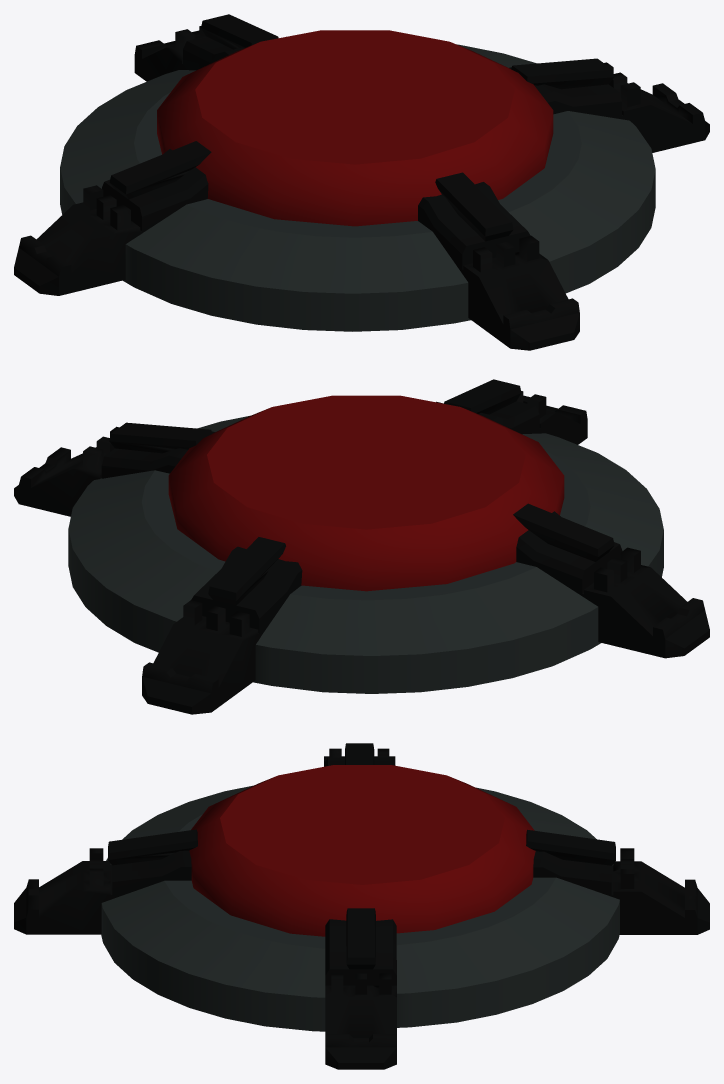
Rendered from placapresion_low.fbx.
The picture shows the model from 3 angles, top to bottom: view 1: azimuth 30°, elevation 25°; view 2: azimuth 150°, elevation 25°; view 3: azimuth 270°, elevation 25°; orthographic projection. The views are drawn at different scales.
Parts seen in each view (by area): view 1: Object011, botonlow, ew003; view 2: Object011, botonlow, ew003; view 3: Object011, botonlow, ew003.
Boxes of the visible parts, box(x1,y1,x2,y2) form: Object011: box(60, 44, 655, 331); botonlow: box(157, 30, 553, 226); ew003: box(14, 14, 709, 350); Object011: box(68, 416, 663, 693); botonlow: box(168, 395, 564, 591); ew003: box(14, 379, 709, 714); Object011: box(101, 785, 619, 1031); botonlow: box(189, 765, 535, 936); ew003: box(14, 743, 709, 1069).
Size of the model in its own units: 76.77 by 11.87 by 77.3.
